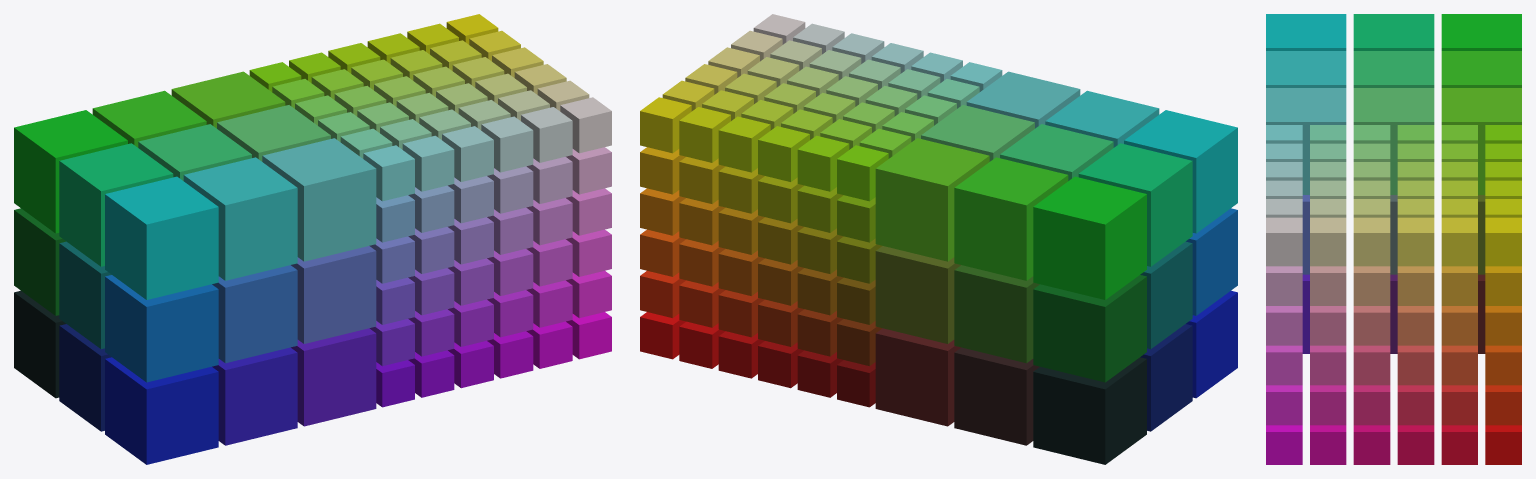
The model's file is colored cubes Pivot corner.fbx.
3 renders of one model, left to right at view 1: azimuth 30°, elevation 25°; view 2: azimuth 150°, elevation 25°; view 3: azimuth 270°, elevation 25°, orthographic. The views are drawn at different scales.
Parts seen in each view (by area): view 1: pCube36; view 2: pCube36; view 3: pCube36.
Part boxes in pixels (<box>): pCube36: <box>14,14,611,464</box>; pCube36: <box>640,14,1237,464</box>; pCube36: <box>1266,14,1521,464</box>.
Size of the model in its own units: 14.18 by 7 by 7.
